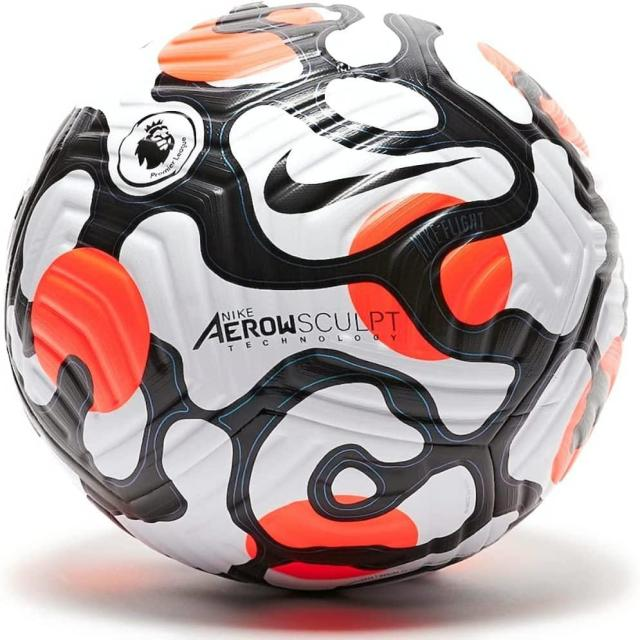ball: (8, 3, 640, 603)
